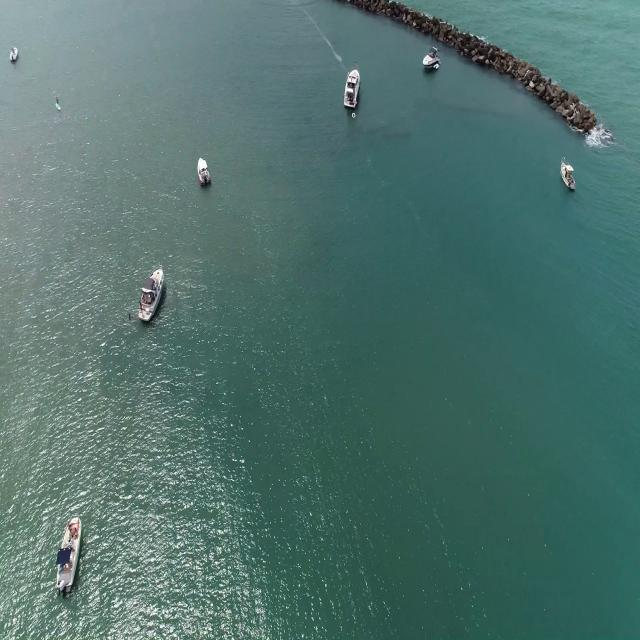boat: (56, 518, 83, 595), (134, 272, 162, 331), (340, 64, 362, 114), (422, 47, 443, 80), (193, 158, 212, 192), (559, 161, 576, 193), (9, 45, 19, 63)
life_buoy: (350, 112, 358, 124)
person: (55, 97, 61, 108)
surfboard: (55, 104, 64, 116)
